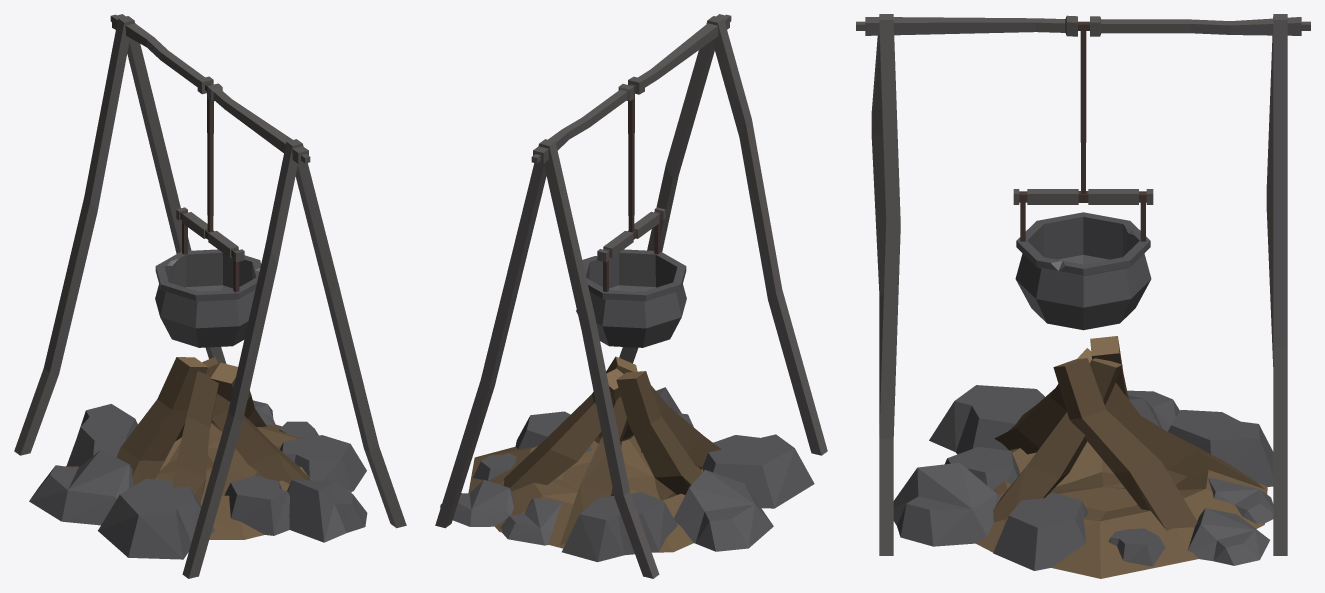
File: SM_Prop_CampFire_01.glb
3 views of the same model, side by side, from view 1: azimuth 30°, elevation 25°; view 2: azimuth 150°, elevation 25°; view 3: azimuth 270°, elevation 25° (orthographic). The views are drawn at different scales.
Parts seen in each view (by area): view 1: SM_Prop_CampFire_01; view 2: SM_Prop_CampFire_01; view 3: SM_Prop_CampFire_01.
Boxes of the visible parts, x1,y1,x2,y2 form: SM_Prop_CampFire_01: (14, 14, 406, 578); SM_Prop_CampFire_01: (435, 14, 827, 578); SM_Prop_CampFire_01: (856, 14, 1310, 578).
Bounding box in the file's own units: 0.9235 × 1.2 × 1.04.
3 materials, 3 textured.
